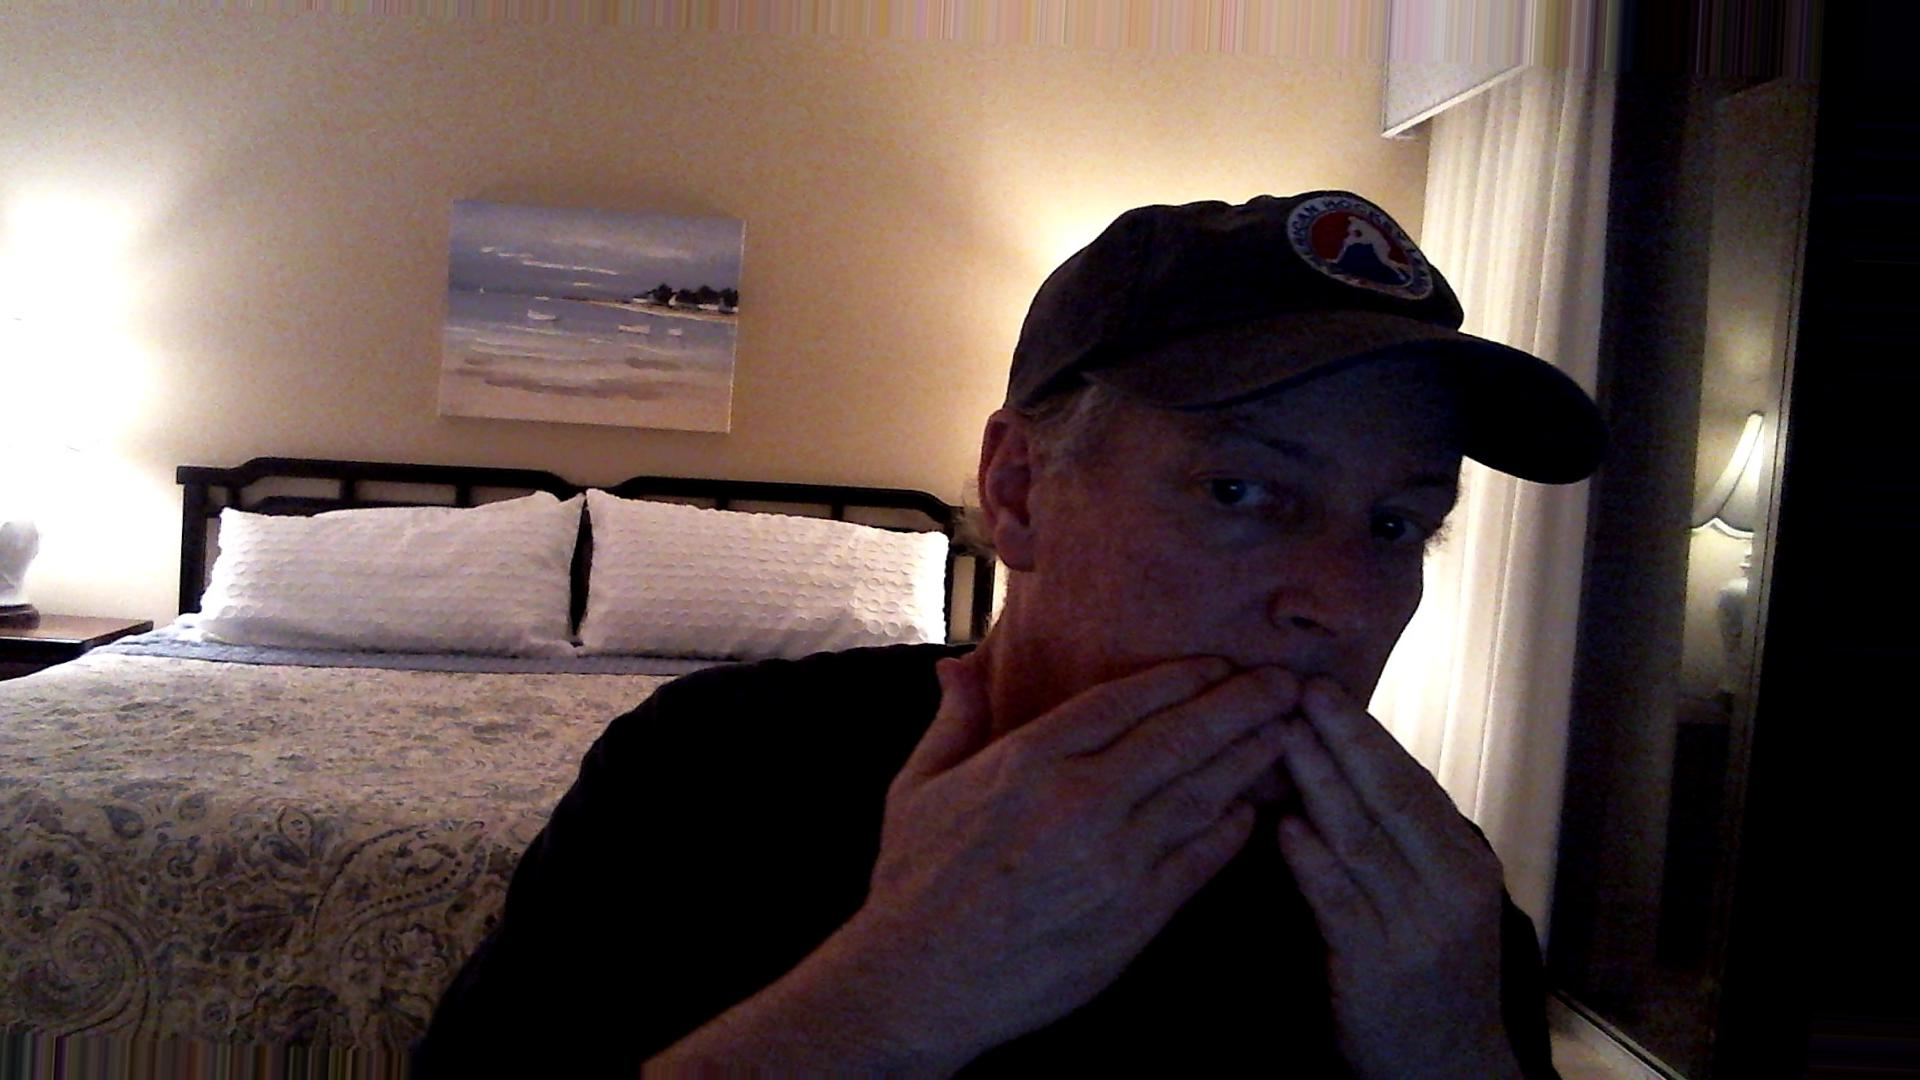Thank You: (835, 604, 1607, 1025)
